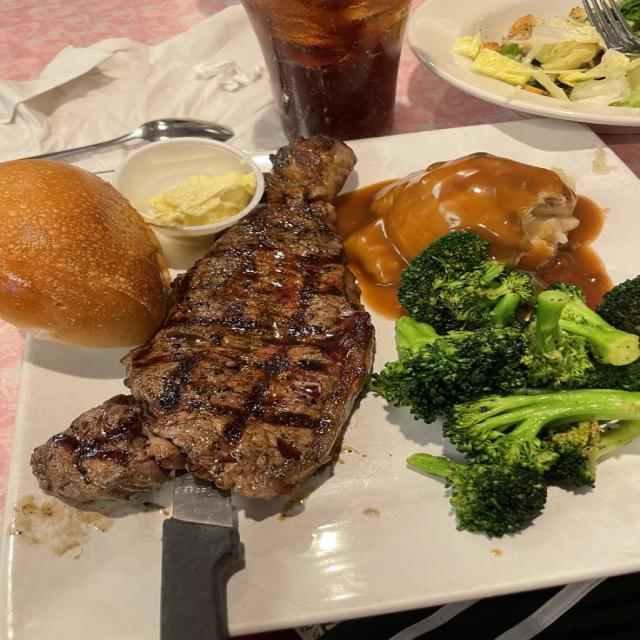beef steak: (123, 137, 373, 498)
bread: (0, 160, 170, 346)
broccoli: (443, 388, 639, 474), (370, 316, 524, 422), (397, 231, 533, 332), (407, 453, 546, 536), (530, 282, 639, 387)
mashed potatoes: (376, 153, 578, 269)
